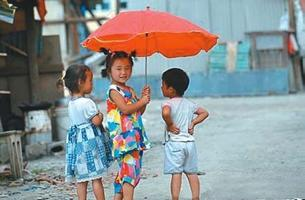person: (101, 47, 152, 200)
